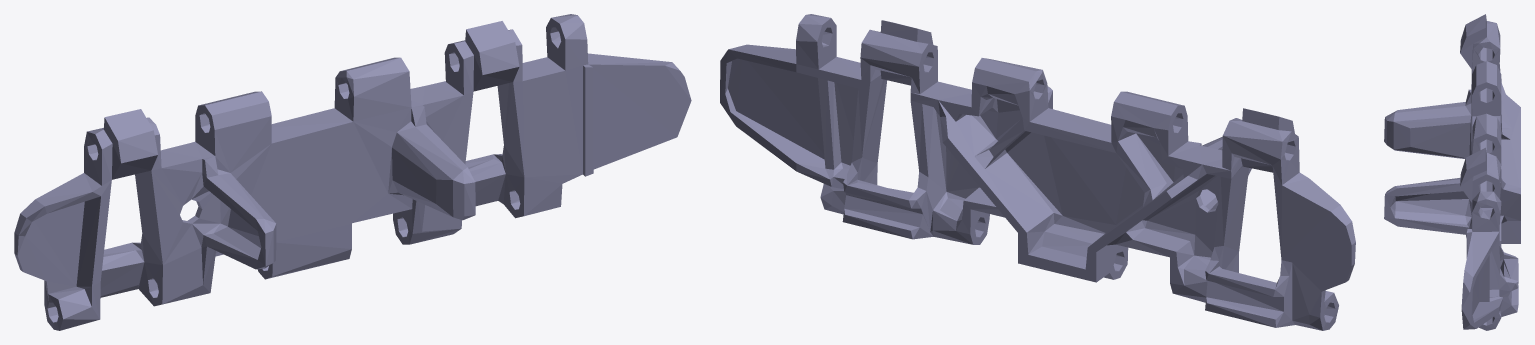
File: excavator_CAT365_shoe.obj
3 renders of one model, left to right at view 1: azimuth 30°, elevation 25°; view 2: azimuth 150°, elevation 25°; view 3: azimuth 270°, elevation 25°, orthographic. The views are drawn at different scales.
Parts seen in each view (by area): view 1: excavator_CAT365_shoe\Facets; view 2: excavator_CAT365_shoe\Facets; view 3: excavator_CAT365_shoe\Facets.
Part boxes in pixels (x1,y1,x2,y2): excavator_CAT365_shoe\Facets: (14,14,691,330); excavator_CAT365_shoe\Facets: (720,14,1355,330); excavator_CAT365_shoe\Facets: (1384,14,1520,330).
Bounding box in the file's own units: 0.8533 × 0.2523 × 0.205.
